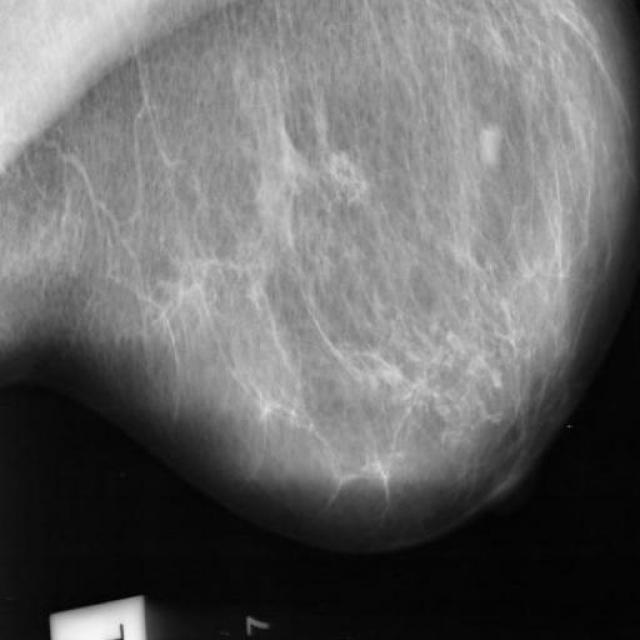cancer: (420, 317, 485, 403)
